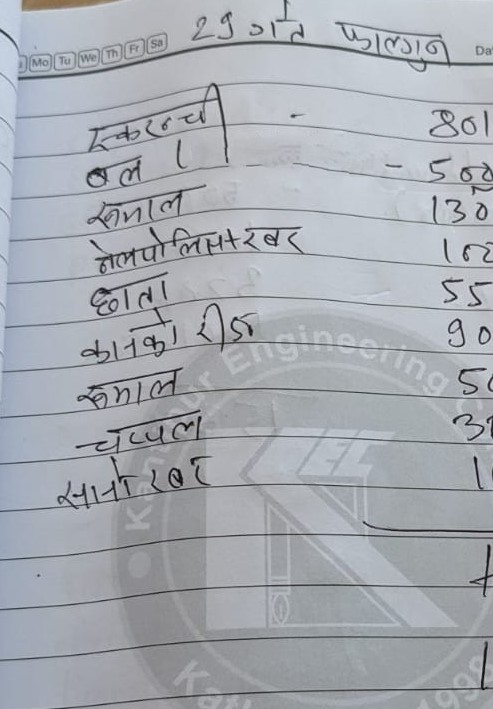text: (81, 78, 231, 147), (48, 458, 215, 513), (327, 20, 454, 72), (70, 409, 207, 456), (171, 222, 310, 260), (78, 318, 179, 366), (72, 367, 182, 406), (81, 227, 169, 275), (79, 192, 196, 228), (87, 274, 174, 315), (190, 299, 258, 346), (241, 9, 310, 46), (81, 158, 151, 188), (187, 9, 238, 46)
